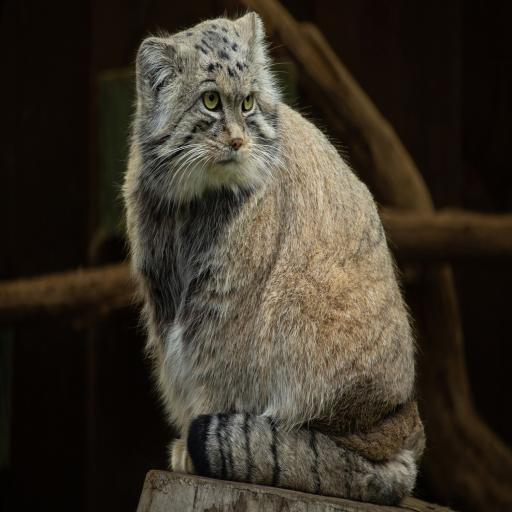manul: (123, 13, 424, 504)
